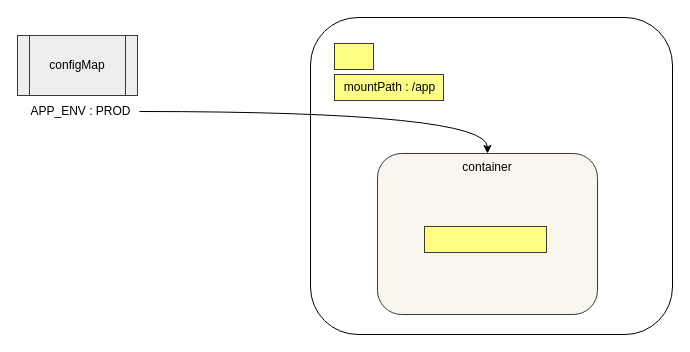
This 690x352 diagram has some shape labels left out. The shapes that lost their labels are listed below. From the top down, each one's box as (x1, y1, x2, y2) in pixels, then its label:
(334, 42, 374, 70): Pod
(424, 226, 546, 252): ls -l /app/APP_ENV
